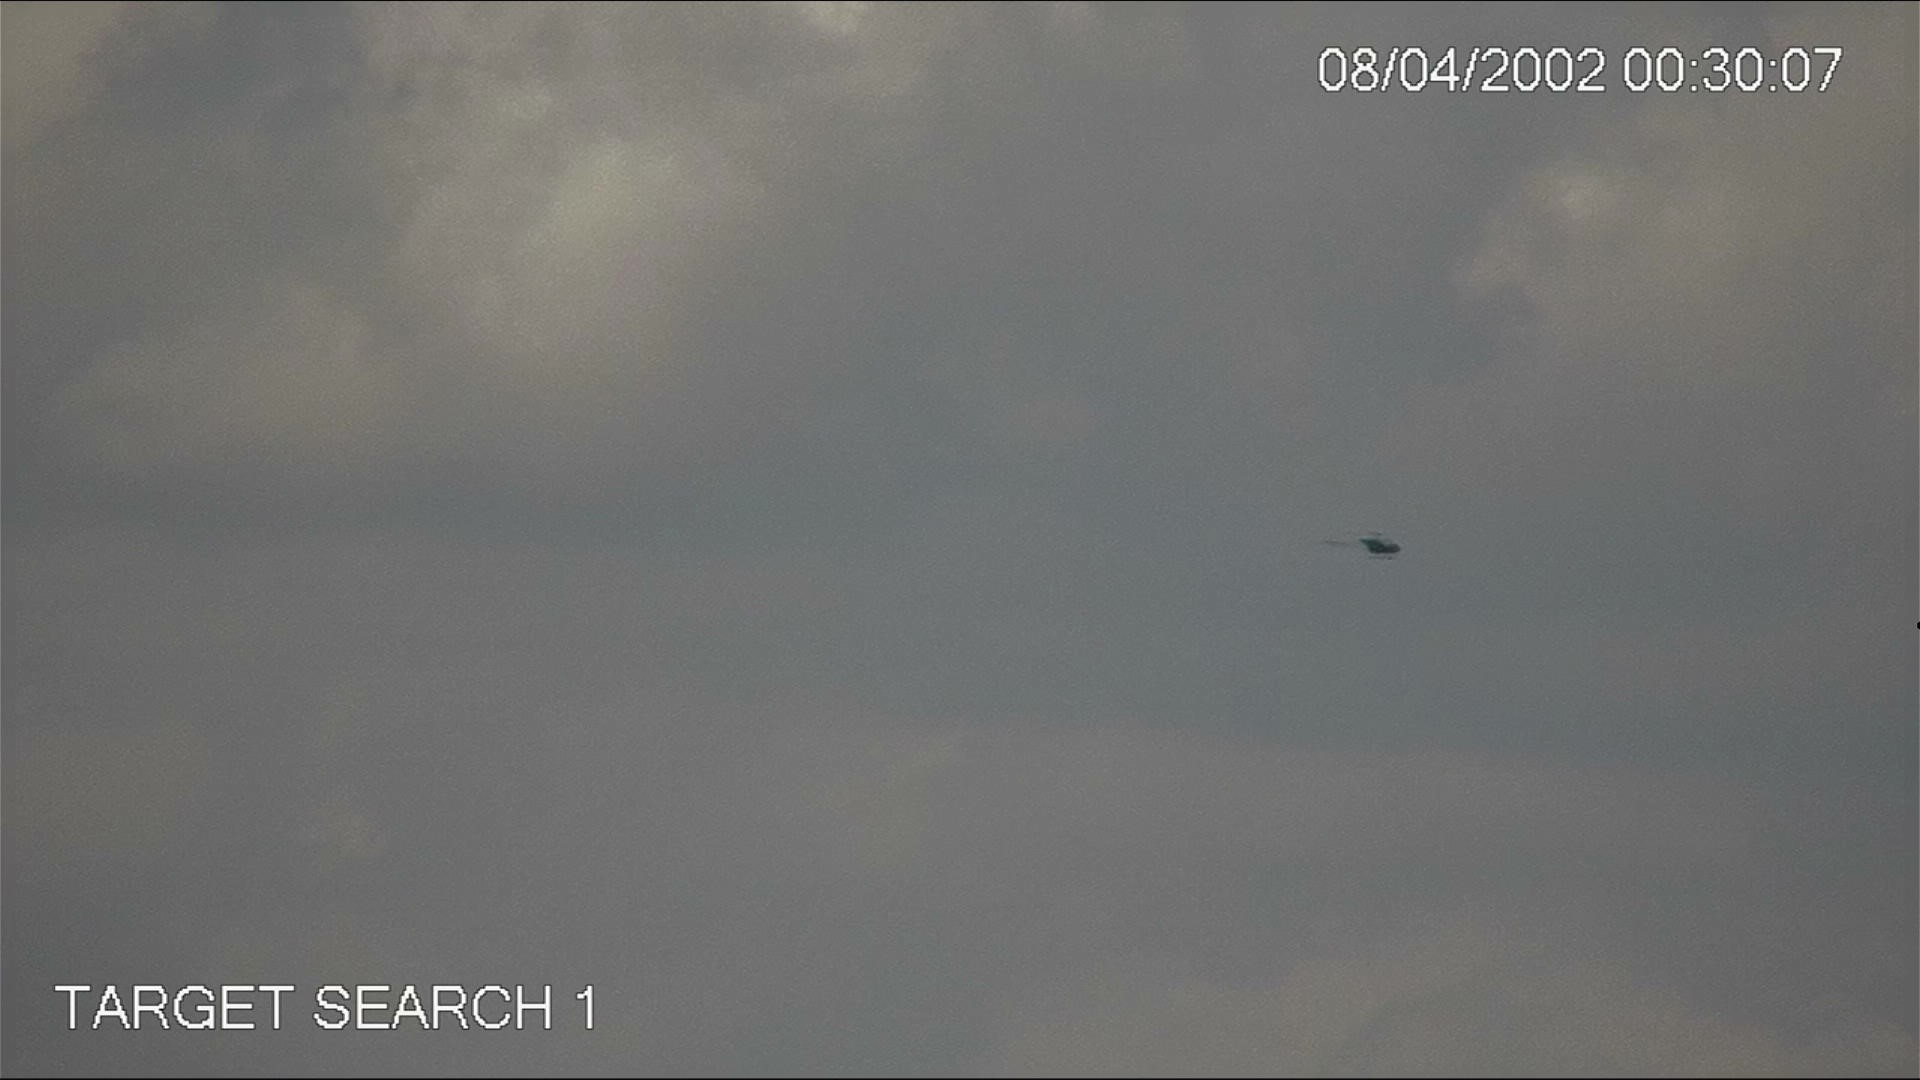SU_30: (1321, 525, 1408, 564)
